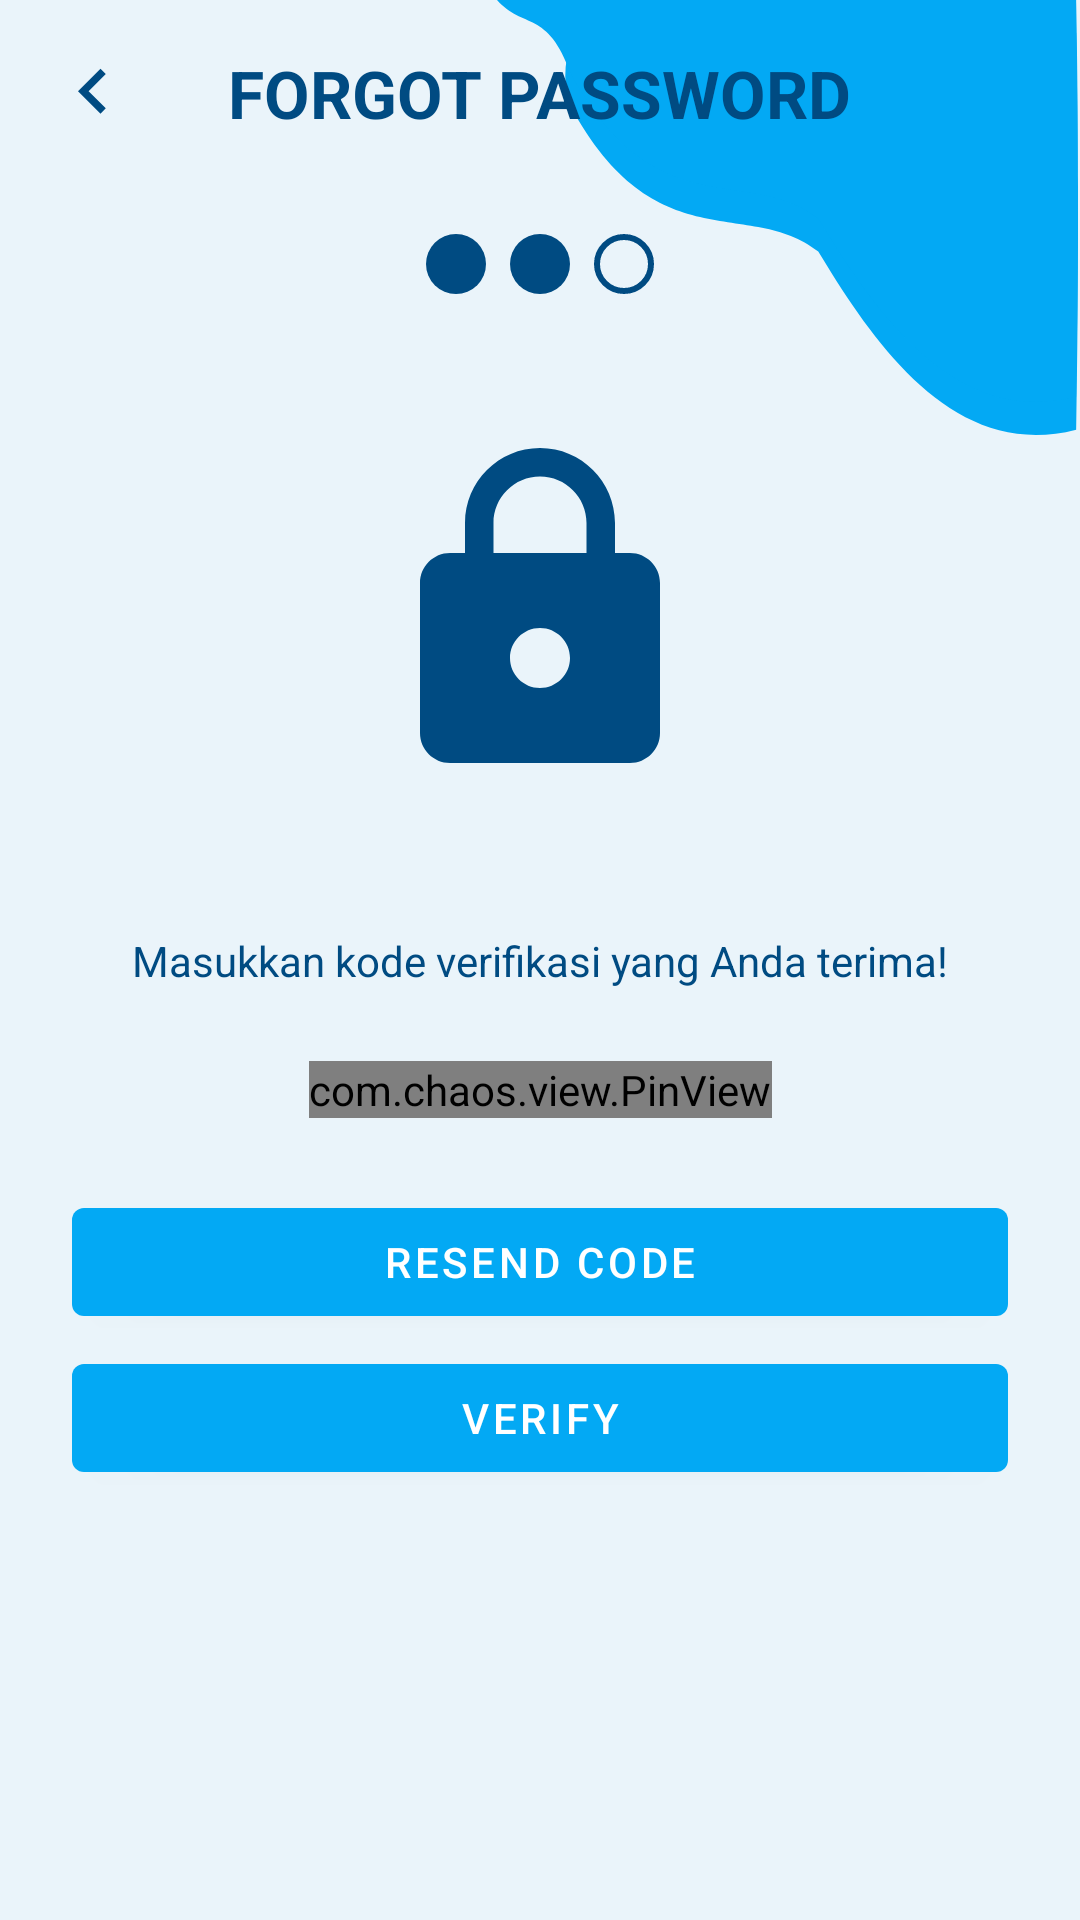

Icon click points for this 1080 × 1920 phone screenshot, format (x,y):
keyboard arrow left: (92,91)
lock: (540,605)
